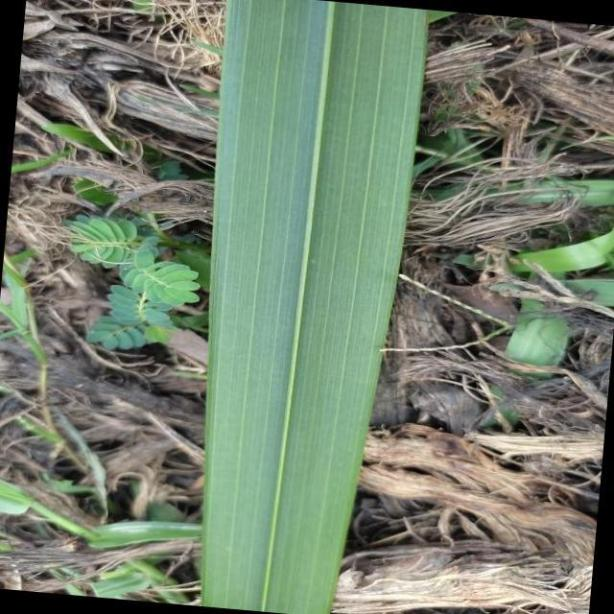Healthy: (203, 0, 422, 614)
